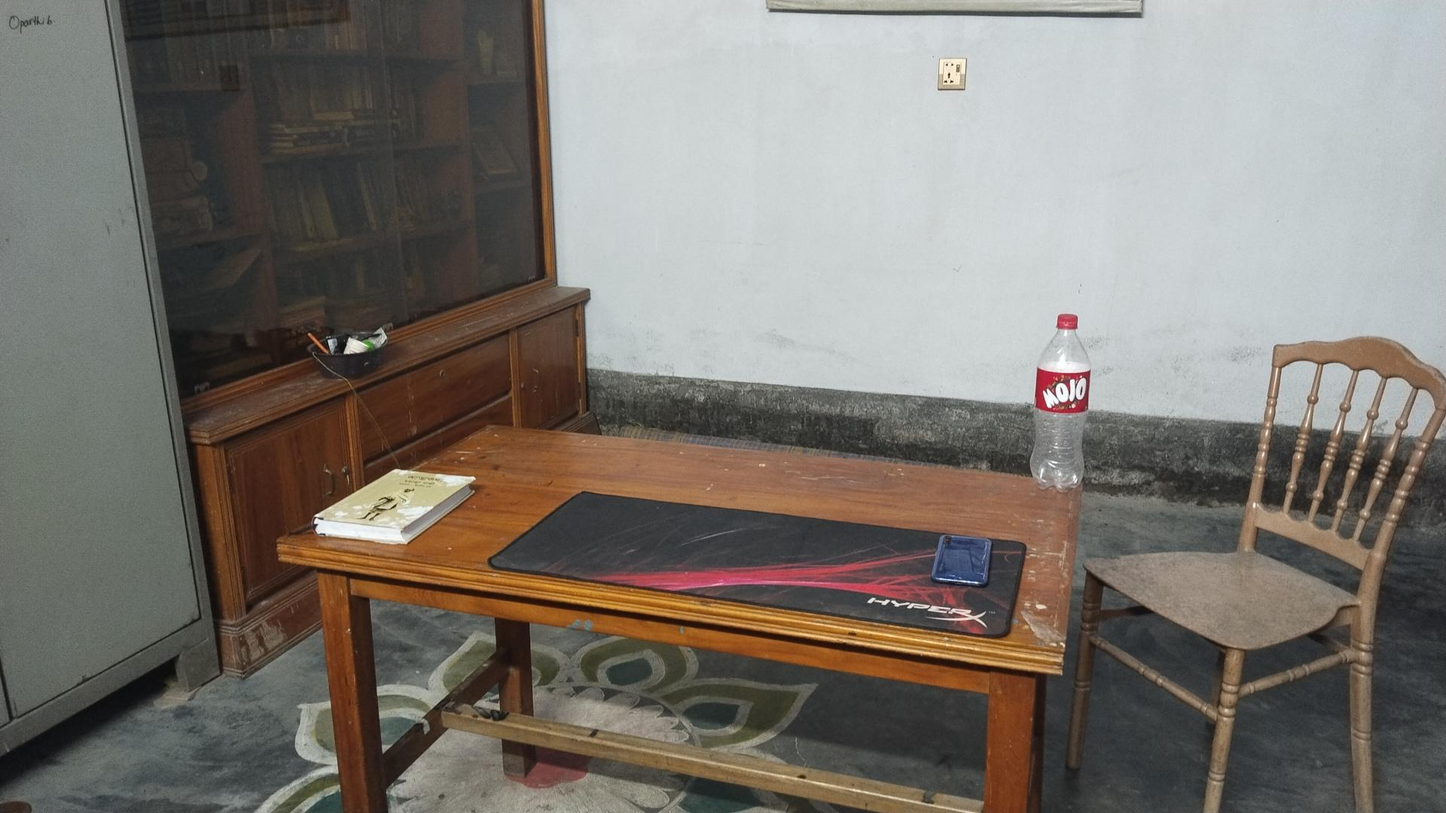Book: (313, 464, 482, 541)
Bottle: (1033, 303, 1091, 495)
Chair: (1096, 310, 1446, 813)
Phone: (929, 523, 998, 594)
Table: (283, 421, 1091, 813)
